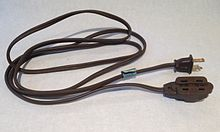Nonrec_Tangler: (4, 8, 216, 112)
